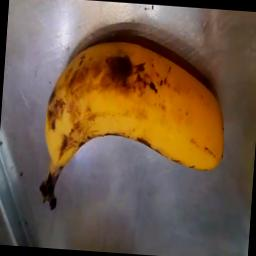Banana Overripe: (34, 28, 254, 196)
